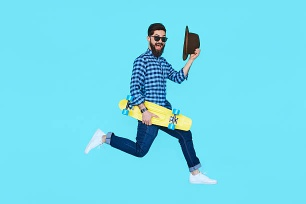male: (140, 22, 169, 59)
